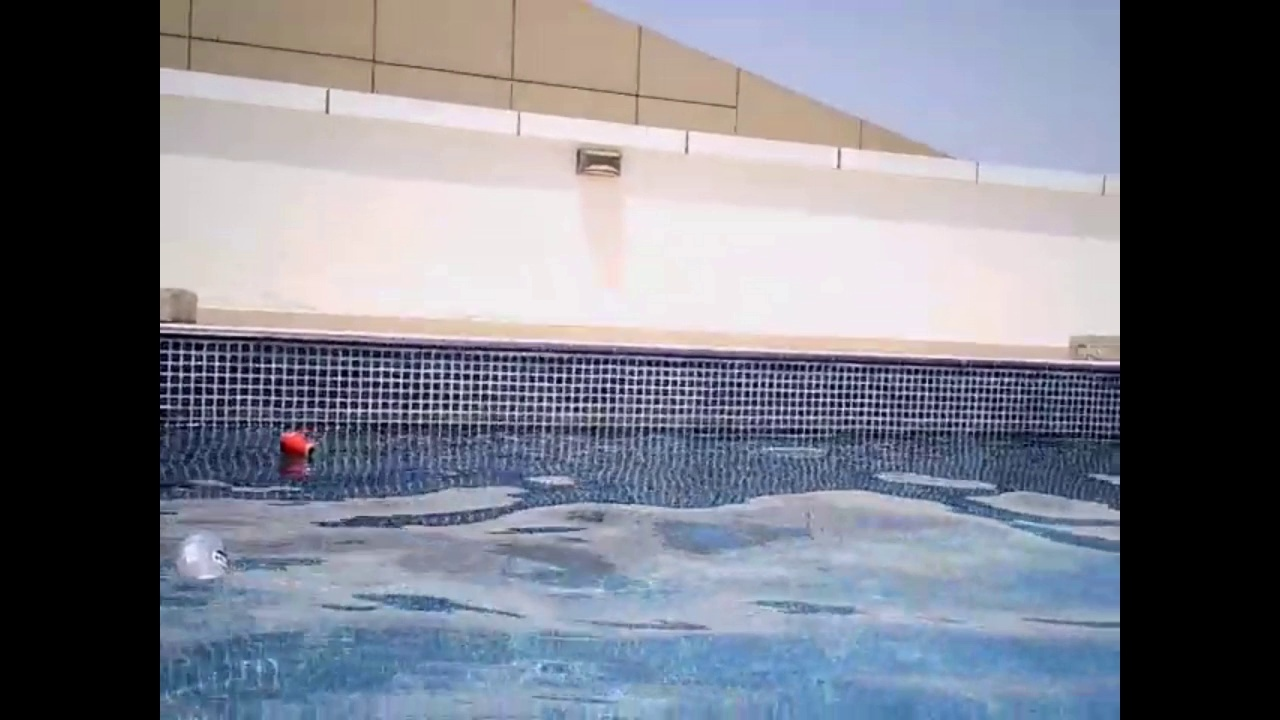debris: (174, 527, 232, 587), (275, 427, 325, 463)
